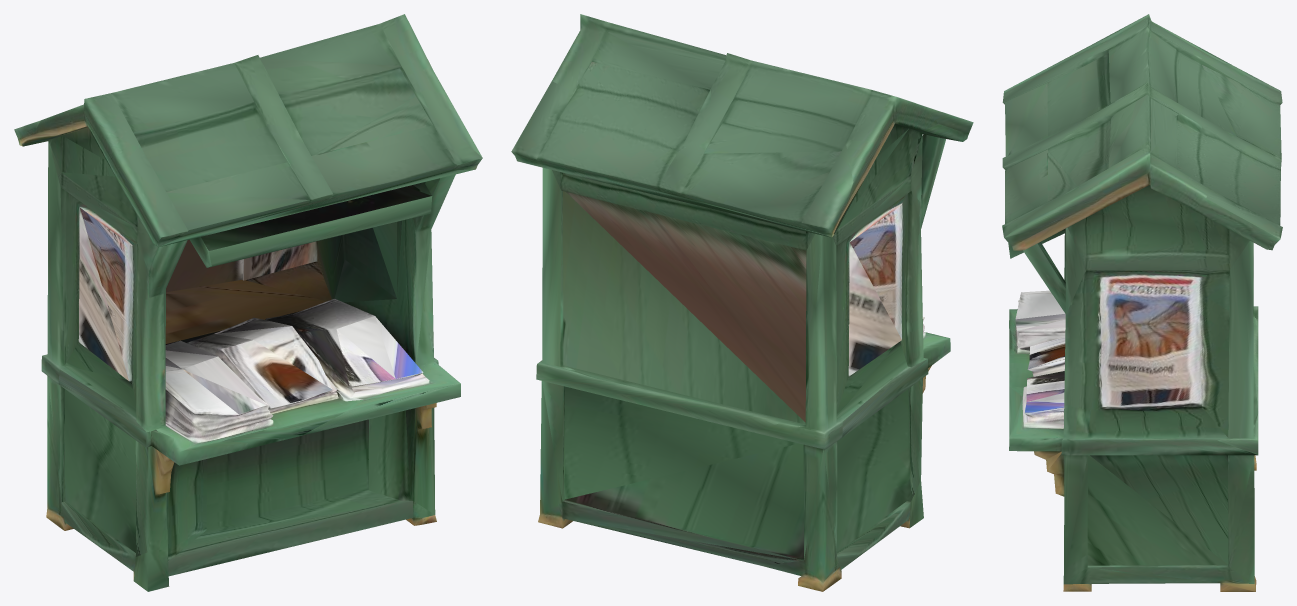
The model's file is newsstand.glb.
The picture shows the model from 3 angles, left to right: view 1: azimuth 30°, elevation 25°; view 2: azimuth 150°, elevation 25°; view 3: azimuth 270°, elevation 25°; orthographic projection. The views are drawn at different scales.
Parts seen in each view (by area): view 1: SM_newsstand; view 2: SM_newsstand; view 3: SM_newsstand.
Boxes of the visible parts, x1,y1,x2,y2 form: SM_newsstand: [14, 14, 482, 591]; SM_newsstand: [511, 14, 973, 591]; SM_newsstand: [1002, 14, 1282, 591].
Size of the model in its own units: 1.86 by 2.6 by 1.49.
1 material, 1 textured.
